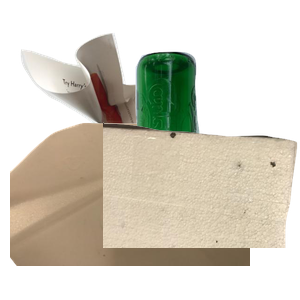glass: (129, 49, 300, 229)
paper: (18, 30, 213, 210)
plastic: (10, 120, 250, 300)
trash: (103, 120, 300, 300)
